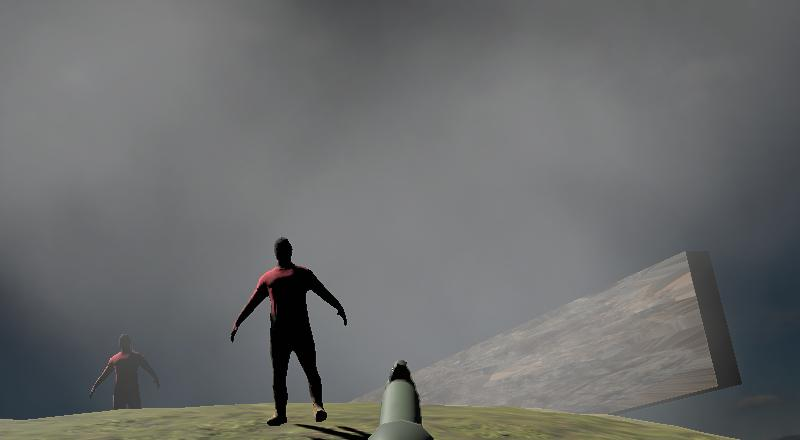Human: (229, 234, 351, 427)
